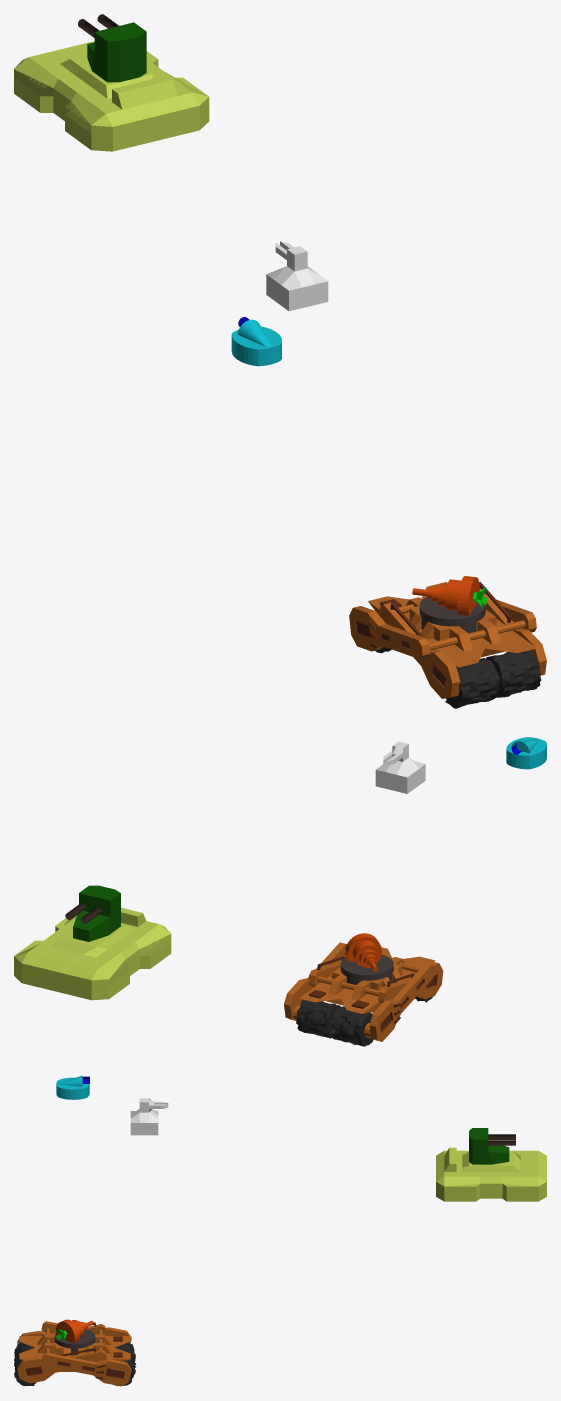
Rendered from Tank1.fbx.
3 views of the same model, one above another, from view 1: azimuth 30°, elevation 25°; view 2: azimuth 150°, elevation 25°; view 3: azimuth 270°, elevation 25° (orthographic). The views are drawn at different scales.
Parts seen in each view (by area): view 1: Cube.003, Cube.002, Cube, Cylinder.001, Cube.001, Cylinder; view 2: Cube.003, Cube.002, Cube, Cylinder.001, Cube.001, Cylinder; view 3: Cube.003, Cube.002, Cube, Cylinder.001, Cube.001, Cylinder.
Part boxes in pixels (x1,y1,x2,y2): Cube.003: [349, 581, 546, 708]; Cube.002: [14, 41, 209, 151]; Cube: [78, 14, 146, 82]; Cylinder.001: [412, 576, 487, 633]; Cube.001: [266, 241, 328, 311]; Cylinder: [231, 317, 281, 366]; Cube.003: [284, 942, 443, 1046]; Cube.002: [14, 907, 171, 1000]; Cube: [65, 885, 120, 941]; Cylinder.001: [340, 933, 393, 984]; Cube.001: [375, 741, 425, 793]; Cylinder: [506, 737, 546, 769]; Cube.003: [14, 1321, 136, 1386]; Cube.002: [436, 1147, 546, 1201]; Cube: [469, 1128, 515, 1164]; Cylinder.001: [54, 1319, 95, 1355]; Cube.001: [130, 1098, 168, 1135]; Cylinder: [56, 1075, 89, 1099].
Size of the model in its own units: 14.07 by 19.52 by 38.39.
